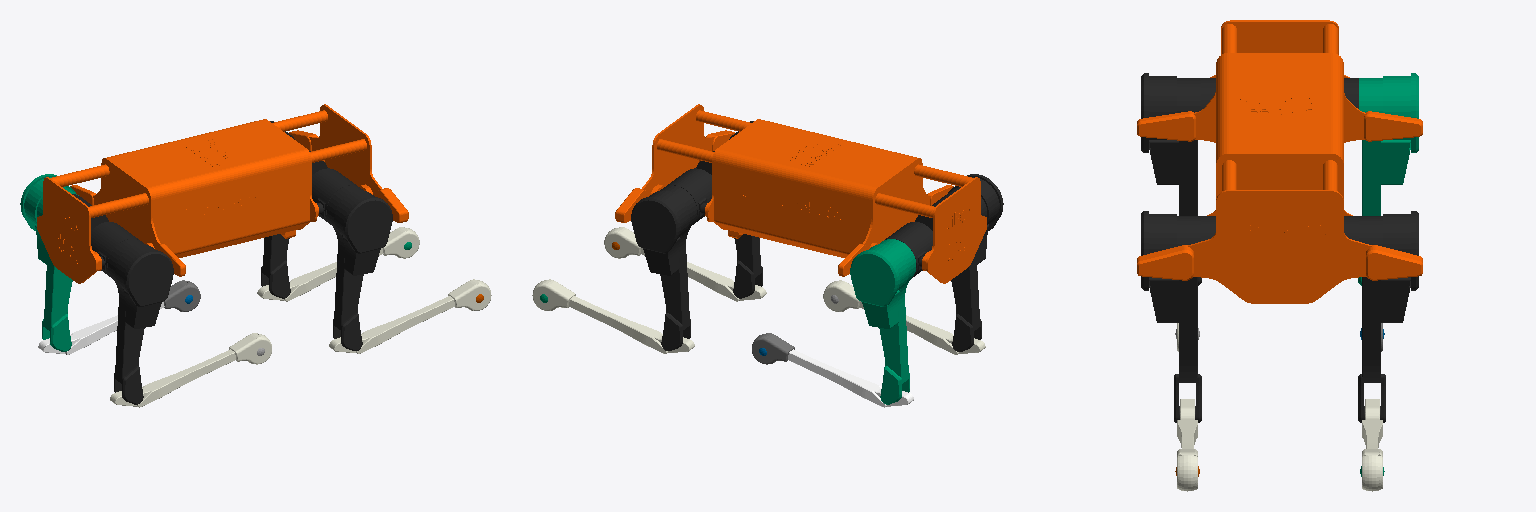
URDF robot description (laikago_description):
<?xml version="1.0" ?>
<!-- =================================================================================== -->
<!-- |    This document was autogenerated by xacro from robot.xacro                    | -->
<!-- |    EDITING THIS FILE BY HAND IS NOT RECOMMENDED                                 | -->
<!-- =================================================================================== -->
<robot name="laikago_description" xmlns:xacro="http://www.ros.org/wiki/xacro">
  <material name="black">
    <color rgba="0.0 0.0 0.0 1.0"/>
  </material>
  <material name="blue">
    <color rgba="0.0 0.0 0.8 1.0"/>
  </material>
  <material name="green">
    <color rgba="0.0 0.8 0.0 1.0"/>
  </material>
  <material name="grey">
    <color rgba="0.2 0.2 0.2 1.0"/>
  </material>
  <material name="silver">
    <color rgba="0.913725490196 0.913725490196 0.847058823529 1.0"/>
  </material>
  <material name="orange">
    <color rgba="1.0 0.423529411765 0.0392156862745 1.0"/>
  </material>
  <material name="brown">
    <color rgba="0.870588235294 0.811764705882 0.764705882353 1.0"/>
  </material>
  <material name="red">
    <color rgba="0.8 0.0 0.0 1.0"/>
  </material>
  <material name="white">
    <color rgba="1.0 1.0 1.0 1.0"/>
  </material>

  <link name="trunk">
    <visual>
      <origin rpy="0 0 0" xyz="0 0 0"/>
      <geometry>
        <mesh filename="../meshes/trunk.dae" scale="1 1 1"/>
      </geometry>
      <material name="orange"/>
    </visual>
    <collision>
      <origin rpy="0 0 0" xyz="0 0 0.01675"/>
      <geometry>
        <box size="0.5616 0.172 0.1875"/>
      </geometry>
    </collision>
    <inertial>
      <origin rpy="0 0 0" xyz="0.002284 -4.1e-05 0.025165"/>
      <mass value="13.733"/>
      <inertia ixx="0.073348887" ixy="0.00030338" ixz="0.001918218" iyy="0.250684593" iyz="-7.5402e-05" izz="0.254469458"/>
    </inertial>
  </link>
  <joint name="FR_hip_joint" type="revolute">
    <origin rpy="0 0 0" xyz="0.21935 -0.0875 0"/>
    <parent link="trunk"/>
    <child link="FR_hip"/>
    <axis xyz="1 0 0"/>
    <dynamics damping="0" friction="0"/>
    <limit effort="20" lower="-1.0471975512" upper="0.872664625997" velocity="52.4"/>
  </joint>
  <link name="FR_hip">
    <visual>
      <origin rpy="3.14159265359 0 0" xyz="0 0 0"/>
      <geometry>
        <mesh filename="../meshes/hip.dae" scale="1 1 1"/>
      </geometry>
      <material name="grey"/>
    </visual>
    <collision>
      <origin rpy="1.57079632679 0 0" xyz="0 0.021 0"/>
      <geometry>
        <cylinder length="0.08" radius="0.041"/>
      </geometry>
    </collision>
    <inertial>
      <origin rpy="0 0 0" xyz="-0.001568 0.008134 0.000864"/>
      <mass value="1.096"/>
      <inertia ixx="0.000822113" ixy="4.982e-06" ixz="-3.672e-05" iyy="0.000983196" iyz="-2.811e-06" izz="0.000864753"/>
    </inertial>
  </link>
  <joint name="FR_hip_fixed" type="fixed">
    <origin rpy="0 0 0" xyz="0 -0.059 0"/>
    <parent link="FR_hip"/>
    <child link="FR_thigh_shoulder"/>
  </joint>
  <!-- this link is only for collision -->
  <link name="FR_thigh_shoulder">
    <collision>
      <origin rpy="1.57079632679 0 0" xyz="0 0 0"/>
      <geometry>
        <cylinder length="0.08" radius="0.044"/>
      </geometry>
    </collision>
  </link>
  <joint name="FR_thigh_joint" type="revolute">
    <origin rpy="0 0 0" xyz="0 -0.037 0"/>
    <parent link="FR_hip"/>
    <child link="FR_thigh"/>
    <axis xyz="0 1 0"/>
    <dynamics damping="0" friction="0"/>
    <limit effort="55" lower="-0.523598775598" upper="3.92699081699" velocity="28.6"/>
  </joint>
  <link name="FR_thigh">
    <visual>
      <origin rpy="0 0 0" xyz="0 0 0"/>
      <geometry>
        <mesh filename="../meshes/thigh_mirror.dae" scale="1 1 1"/>
      </geometry>
      <material name="grey"/>
    </visual>
    <collision>
      <origin rpy="0 1.57079632679 0" xyz="0 0 -0.125"/>
      <geometry>
        <box size="0.25 0.034 0.043"/>
      </geometry>
    </collision>
    <inertial>
      <origin rpy="0 0 0" xyz="-0.000482 -0.02001 -0.031996"/>
      <mass value="1.528"/>
      <inertia ixx="0.00991611" ixy="-1.0388e-05" ixz="0.000250428" iyy="0.009280083" iyz="8.511e-05" izz="0.00178256"/>
    </inertial>
  </link>
  <joint name="FR_calf_joint" type="revolute">
    <origin rpy="0 0 0" xyz="0 0 -0.25"/>
    <parent link="FR_thigh"/>
    <child link="FR_calf"/>
    <axis xyz="0 1 0"/>
    <dynamics damping="0" friction="0"/>
    <limit effort="55" lower="-2.77507351067" upper="-0.610865238198" velocity="28.6"/>
  </joint>
  <link name="FR_calf">
    <visual>
      <origin rpy="0 0 0" xyz="0 0 0"/>
      <geometry>
        <mesh filename="../meshes/calf.dae" scale="1 1 1"/>
      </geometry>
      <material name="silver"/>
    </visual>
    <collision>
      <origin rpy="0 1.57079632679 0" xyz="0 0 -0.125"/>
      <geometry>
        <box size="0.25 0.016 0.016"/>
      </geometry>
    </collision>
    <inertial>
      <origin rpy="0 0 0" xyz="-0.002196 -0.000381 -0.12338"/>
      <mass value="0.241"/>
      <inertia ixx="0.006181961" ixy="2.37e-07" ixz="-2.985e-06" iyy="0.006196546" iyz="5.138e-06" izz="3.4774e-05"/>
    </inertial>
  </link>
  <joint name="FR_foot_fixed" type="fixed">
    <origin rpy="0 0 0" xyz="0 0 -0.25"/>
    <parent link="FR_calf"/>
    <child link="FR_foot"/>
  </joint>
  <link name="FR_foot">
    <visual>
      <origin rpy="0 0 0" xyz="0 0 0"/>
      <geometry>
        <sphere radius="0.0165"/>
      </geometry>
    </visual>
    <collision>
      <origin rpy="0 0 0" xyz="0 0 0"/>
      <geometry>
        <sphere radius="0.0265"/>
      </geometry>
    </collision>
    <inertial>
      <mass value="0.06"/>
      <inertia ixx="1.6854e-05" ixy="0.0" ixz="0.0" iyy="1.6854e-05" iyz="0.0" izz="1.6854e-05"/>
    </inertial>
  </link>

  <joint name="FL_hip_joint" type="revolute">
    <origin rpy="0 0 0" xyz="0.21935 0.0875 0"/>
    <parent link="trunk"/>
    <child link="FL_hip"/>
    <axis xyz="1 0 0"/>
    <dynamics damping="0" friction="0"/>
    <limit effort="20" lower="-0.872664625997" upper="1.0471975512" velocity="52.4"/>
  </joint>
  <link name="FL_hip">
    <visual>
      <origin rpy="0 0 0" xyz="0 0 0"/>
      <geometry>
        <mesh filename="../meshes/hip.dae" scale="1 1 1"/>
      </geometry>
      <material name="grey"/>
    </visual>
    <collision>
      <origin rpy="1.57079632679 0 0" xyz="0 -0.021 0"/>
      <geometry>
        <cylinder length="0.08" radius="0.041"/>
      </geometry>
    </collision>
    <inertial>
      <origin rpy="0 0 0" xyz="-0.001568 -0.008134 0.000864"/>
      <mass value="1.096"/>
      <inertia ixx="0.000822113" ixy="-4.982e-06" ixz="-3.672e-05" iyy="0.000983196" iyz="2.811e-06" izz="0.000864753"/>
    </inertial>
  </link>
  <joint name="FL_hip_fixed" type="fixed">
    <origin rpy="0 0 0" xyz="0 0.059 0"/>
    <parent link="FL_hip"/>
    <child link="FL_thigh_shoulder"/>
  </joint>
  <!-- this link is only for collision -->
  <link name="FL_thigh_shoulder">
    <collision>
      <origin rpy="1.57079632679 0 0" xyz="0 0 0"/>
      <geometry>
        <cylinder length="0.08" radius="0.044"/>
      </geometry>
    </collision>
  </link>
  <joint name="FL_thigh_joint" type="revolute">
    <origin rpy="0 0 0" xyz="0 0.037 0"/>
    <parent link="FL_hip"/>
    <child link="FL_thigh"/>
    <axis xyz="0 1 0"/>
    <dynamics damping="0" friction="0"/>
    <limit effort="55" lower="-0.523598775598" upper="3.92699081699" velocity="28.6"/>
  </joint>
  <link name="FL_thigh">
    <visual>
      <origin rpy="0 0 0" xyz="0 0 0"/>
      <geometry>
        <mesh filename="../meshes/thigh.dae" scale="1 1 1"/>
      </geometry>
      <material name="grey"/>
    </visual>
    <collision>
      <origin rpy="0 1.57079632679 0" xyz="0 0 -0.125"/>
      <geometry>
        <box size="0.25 0.034 0.043"/>
      </geometry>
    </collision>
    <inertial>
      <origin rpy="0 0 0" xyz="-0.000482 0.02001 -0.031996"/>
      <mass value="1.528"/>
      <inertia ixx="0.00991611" ixy="1.0388e-05" ixz="0.000250428" iyy="0.009280083" iyz="-8.511e-05" izz="0.00178256"/>
    </inertial>
  </link>
  <joint name="FL_calf_joint" type="revolute">
    <origin rpy="0 0 0" xyz="0 0 -0.25"/>
    <parent link="FL_thigh"/>
    <child link="FL_calf"/>
    <axis xyz="0 1 0"/>
    <dynamics damping="0" friction="0"/>
    <limit effort="55" lower="-2.77507351067" upper="-0.610865238198" velocity="28.6"/>
  </joint>
  <link name="FL_calf">
    <visual>
      <origin rpy="0 0 0" xyz="0 0 0"/>
      <geometry>
        <mesh filename="../meshes/calf.dae" scale="1 1 1"/>
      </geometry>
      <material name="silver"/>
    </visual>
    <collision>
      <origin rpy="0 1.57079632679 0" xyz="0 0 -0.125"/>
      <geometry>
        <box size="0.25 0.016 0.016"/>
      </geometry>
    </collision>
    <inertial>
      <origin rpy="0 0 0" xyz="-0.002196 -0.000381 -0.12338"/>
      <mass value="0.241"/>
      <inertia ixx="0.006181961" ixy="2.37e-07" ixz="-2.985e-06" iyy="0.006196546" iyz="5.138e-06" izz="3.4774e-05"/>
    </inertial>
  </link>
  <joint name="FL_foot_fixed" type="fixed">
    <origin rpy="0 0 0" xyz="0 0 -0.25"/>
    <parent link="FL_calf"/>
    <child link="FL_foot"/>
  </joint>
  <link name="FL_foot">
    <visual>
      <origin rpy="0 0 0" xyz="0 0 0"/>
      <geometry>
        <sphere radius="0.0165"/>
      </geometry>
    </visual>
    <collision>
      <origin rpy="0 0 0" xyz="0 0 0"/>
      <geometry>
        <sphere radius="0.0265"/>
      </geometry>
    </collision>
    <inertial>
      <mass value="0.06"/>
      <inertia ixx="1.6854e-05" ixy="0.0" ixz="0.0" iyy="1.6854e-05" iyz="0.0" izz="1.6854e-05"/>
    </inertial>
  </link>
  
  <joint name="RR_hip_joint" type="revolute">
    <origin rpy="0 0 0" xyz="-0.21935 -0.0875 0"/>
    <parent link="trunk"/>
    <child link="RR_hip"/>
    <axis xyz="1 0 0"/>
    <dynamics damping="0" friction="0"/>
    <limit effort="20" lower="-1.0471975512" upper="0.872664625997" velocity="52.4"/>
  </joint>
  <link name="RR_hip">
    <visual>
      <origin rpy="3.14159265359 3.14159265359 0" xyz="0 0 0"/>
      <geometry>
        <mesh filename="../meshes/hip.dae" scale="1 1 1"/>
      </geometry>
      <material name="grey"/>
    </visual>
    <collision>
      <origin rpy="1.57079632679 0 0" xyz="0 0.021 0"/>
      <geometry>
        <cylinder length="0.08" radius="0.041"/>
      </geometry>
    </collision>
    <inertial>
      <origin rpy="0 0 0" xyz="0.001568 0.008134 0.000864"/>
      <mass value="1.096"/>
      <inertia ixx="0.000822113" ixy="-4.982e-06" ixz="3.672e-05" iyy="0.000983196" iyz="-2.811e-06" izz="0.000864753"/>
    </inertial>
  </link>
  <joint name="RR_hip_fixed" type="fixed">
    <origin rpy="0 0 0" xyz="0 -0.059 0"/>
    <parent link="RR_hip"/>
    <child link="RR_thigh_shoulder"/>
  </joint>
  <!-- this link is only for collision -->
  <link name="RR_thigh_shoulder">
    <collision>
      <origin rpy="1.57079632679 0 0" xyz="0 0 0"/>
      <geometry>
        <cylinder length="0.08" radius="0.044"/>
      </geometry>
    </collision>
  </link>
  <joint name="RR_thigh_joint" type="revolute">
    <origin rpy="0 0 0" xyz="0 -0.037 0"/>
    <parent link="RR_hip"/>
    <child link="RR_thigh"/>
    <axis xyz="0 1 0"/>
    <dynamics damping="0" friction="0"/>
    <limit effort="55" lower="-0.523598775598" upper="3.92699081699" velocity="28.6"/>
  </joint>
  <link name="RR_thigh">
    <visual>
      <origin rpy="0 0 0" xyz="0 0 0"/>
      <geometry>
        <mesh filename="../meshes/thigh_mirror.dae" scale="1 1 1"/>
      </geometry>
      <material name="grey"/>
    </visual>
    <collision>
      <origin rpy="0 1.57079632679 0" xyz="0 0 -0.125"/>
      <geometry>
        <box size="0.25 0.034 0.043"/>
      </geometry>
    </collision>
    <inertial>
      <origin rpy="0 0 0" xyz="-0.000482 -0.02001 -0.031996"/>
      <mass value="1.528"/>
      <inertia ixx="0.00991611" ixy="-1.0388e-05" ixz="0.000250428" iyy="0.009280083" iyz="8.511e-05" izz="0.00178256"/>
    </inertial>
  </link>
  <joint name="RR_calf_joint" type="revolute">
    <origin rpy="0 0 0" xyz="0 0 -0.25"/>
    <parent link="RR_thigh"/>
    <child link="RR_calf"/>
    <axis xyz="0 1 0"/>
    <dynamics damping="0" friction="0"/>
    <limit effort="55" lower="-2.77507351067" upper="-0.610865238198" velocity="28.6"/>
  </joint>
  <link name="RR_calf">
    <visual>
      <origin rpy="0 0 0" xyz="0 0 0"/>
      <geometry>
        <mesh filename="../meshes/calf.dae" scale="1 1 1"/>
      </geometry>
      <material name="silver"/>
    </visual>
    <collision>
      <origin rpy="0 1.57079632679 0" xyz="0 0 -0.125"/>
      <geometry>
        <box size="0.25 0.016 0.016"/>
      </geometry>
    </collision>
    <inertial>
      <origin rpy="0 0 0" xyz="-0.002196 -0.000381 -0.12338"/>
      <mass value="0.241"/>
      <inertia ixx="0.006181961" ixy="2.37e-07" ixz="-2.985e-06" iyy="0.006196546" iyz="5.138e-06" izz="3.4774e-05"/>
    </inertial>
  </link>
  <joint name="RR_foot_fixed" type="fixed">
    <origin rpy="0 0 0" xyz="0 0 -0.25"/>
    <parent link="RR_calf"/>
    <child link="RR_foot"/>
  </joint>
  <link name="RR_foot">
    <visual>
      <origin rpy="0 0 0" xyz="0 0 0"/>
      <geometry>
        <sphere radius="0.0165"/>
      </geometry>
    </visual>
    <collision>
      <origin rpy="0 0 0" xyz="0 0 0"/>
      <geometry>
        <sphere radius="0.0265"/>
      </geometry>
    </collision>
    <inertial>
      <mass value="0.06"/>
      <inertia ixx="1.6854e-05" ixy="0.0" ixz="0.0" iyy="1.6854e-05" iyz="0.0" izz="1.6854e-05"/>
    </inertial>
  </link>
  
  <joint name="RL_hip_joint" type="revolute">
    <origin rpy="0 0 0" xyz="-0.21935 0.0875 0"/>
    <parent link="trunk"/>
    <child link="RL_hip"/>
    <axis xyz="1 0 0"/>
    <dynamics damping="0" friction="0"/>
    <limit effort="20" lower="-0.872664625997" upper="1.0471975512" velocity="52.4"/>
  </joint>
  <link name="RL_hip">
    <visual>
      <origin rpy="0 3.14159265359 0" xyz="0 0 0"/>
      <geometry>
        <mesh filename="../meshes/hip.dae" scale="1 1 1"/>
      </geometry>
      <material name="grey"/>
    </visual>
    <collision>
      <origin rpy="1.57079632679 0 0" xyz="0 -0.021 0"/>
      <geometry>
        <cylinder length="0.08" radius="0.041"/>
      </geometry>
    </collision>
    <inertial>
      <origin rpy="0 0 0" xyz="0.001568 -0.008134 0.000864"/>
      <mass value="1.096"/>
      <inertia ixx="0.000822113" ixy="4.982e-06" ixz="3.672e-05" iyy="0.000983196" iyz="2.811e-06" izz="0.000864753"/>
    </inertial>
  </link>
  <joint name="RL_hip_fixed" type="fixed">
    <origin rpy="0 0 0" xyz="0 0.059 0"/>
    <parent link="RL_hip"/>
    <child link="RL_thigh_shoulder"/>
  </joint>
  <!-- this link is only for collision -->
  <link name="RL_thigh_shoulder">
    <collision>
      <origin rpy="1.57079632679 0 0" xyz="0 0 0"/>
      <geometry>
        <cylinder length="0.08" radius="0.044"/>
      </geometry>
    </collision>
  </link>
  <joint name="RL_thigh_joint" type="revolute">
    <origin rpy="0 0 0" xyz="0 0.037 0"/>
    <parent link="RL_hip"/>
    <child link="RL_thigh"/>
    <axis xyz="0 1 0"/>
    <dynamics damping="0" friction="0"/>
    <limit effort="55" lower="-0.523598775598" upper="3.92699081699" velocity="28.6"/>
  </joint>
  <link name="RL_thigh">
    <visual>
      <origin rpy="0 0 0" xyz="0 0 0"/>
      <geometry>
        <mesh filename="../meshes/thigh.dae" scale="1 1 1"/>
      </geometry>
    </visual>
    <collision>
      <origin rpy="0 1.57079632679 0" xyz="0 0 -0.125"/>
      <geometry>
        <box size="0.25 0.034 0.043"/>
      </geometry>
    </collision>
    <inertial>
      <origin rpy="0 0 0" xyz="-0.000482 0.02001 -0.031996"/>
      <mass value="1.528"/>
      <inertia ixx="0.00991611" ixy="1.0388e-05" ixz="0.000250428" iyy="0.009280083" iyz="-8.511e-05" izz="0.00178256"/>
    </inertial>
  </link>
  <joint name="RL_calf_joint" type="revolute">
    <origin rpy="0 0 0" xyz="0 0 -0.25"/>
    <parent link="RL_thigh"/>
    <child link="RL_calf"/>
    <axis xyz="0 1 0"/>
    <dynamics damping="0" friction="0"/>
    <limit effort="55" lower="-2.77507351067" upper="-0.610865238198" velocity="28.6"/>
  </joint>
  <link name="RL_calf">
    <visual>
      <origin rpy="0 0 0" xyz="0 0 0"/>
      <geometry>
        <mesh filename="../meshes/calf.dae" scale="1 1 1"/>
      </geometry>
    </visual>
    <collision>
      <origin rpy="0 1.57079632679 0" xyz="0 0 -0.125"/>
      <geometry>
        <box size="0.25 0.016 0.016"/>
      </geometry>
    </collision>
    <inertial>
      <origin rpy="0 0 0" xyz="-0.002196 -0.000381 -0.12338"/>
      <mass value="0.241"/>
      <inertia ixx="0.006181961" ixy="2.37e-07" ixz="-2.985e-06" iyy="0.006196546" iyz="5.138e-06" izz="3.4774e-05"/>
    </inertial>
  </link>
  <joint name="RL_foot_fixed" type="fixed">
    <origin rpy="0 0 0" xyz="0 0 -0.25"/>
    <parent link="RL_calf"/>
    <child link="RL_foot"/>
  </joint>
  <link name="RL_foot">
    <visual>
      <origin rpy="0 0 0" xyz="0 0 0"/>
      <geometry>
        <sphere radius="0.0165"/>
      </geometry>
    </visual>
    <collision>
      <origin rpy="0 0 0" xyz="0 0 0"/>
      <geometry>
        <sphere radius="0.0265"/>
      </geometry>
    </collision>
    <inertial>
      <mass value="0.06"/>
      <inertia ixx="1.6854e-05" ixy="0.0" ixz="0.0" iyy="1.6854e-05" iyz="0.0" izz="1.6854e-05"/>
    </inertial>
  </link>
</robot>

--- What the picture shows (computed from the rendered views, not written in the file) ---
3 views of the same robot in one strip: view 1: azimuth 30°, elevation 25°; view 2: azimuth 150°, elevation 25°; view 3: azimuth 270°, elevation 25° (orthographic).
Model laikago_description with 21 links and 20 joints (12 revolute, 8 fixed), rooted at trunk, posed joints at zero except 4 at the middle of their limits (FR_calf_joint = -1.69, FL_calf_joint = -1.69, RR_calf_joint = -1.69, RL_calf_joint = -1.69).
Links seen in each view (by area): view 1: trunk, FR_thigh, RR_thigh, RL_thigh, FR_calf, RR_calf, FL_calf, RL_calf, FL_thigh, FR_hip, RR_hip; view 2: trunk, FL_thigh, RL_thigh, RR_thigh, FL_calf, RL_calf, FR_calf, RR_calf, FR_thigh, FL_hip, RL_hip; view 3: trunk, FR_thigh, FL_thigh, RR_thigh, RL_thigh, FR_calf, FL_calf.
Link boxes in pixels (left/top/right/bottom): trunk: left=37, top=104, right=408, bottom=283; FR_thigh: left=327, top=185, right=392, bottom=350; RR_thigh: left=108, top=239, right=173, bottom=404; RL_thigh: left=20, top=174, right=78, bottom=351; FR_calf: left=329, top=279, right=491, bottom=353; RR_calf: left=110, top=333, right=271, bottom=407; FL_calf: left=257, top=227, right=419, bottom=301; RL_calf: left=38, top=280, right=200, bottom=354; FL_thigh: left=261, top=121, right=294, bottom=298; FR_hip: left=312, top=168, right=356, bottom=224; RR_hip: left=91, top=222, right=138, bottom=277; trunk: left=615, top=104, right=986, bottom=283; FL_thigh: left=631, top=185, right=696, bottom=350; RL_thigh: left=850, top=239, right=915, bottom=404; RR_thigh: left=945, top=174, right=1003, bottom=351; FL_calf: left=532, top=279, right=694, bottom=353; RL_calf: left=752, top=333, right=913, bottom=407; FR_calf: left=604, top=227, right=766, bottom=301; RR_calf: left=823, top=280, right=985, bottom=354; FR_thigh: left=729, top=121, right=762, bottom=298; FL_hip: left=667, top=168, right=711, bottom=224; RL_hip: left=885, top=222, right=932, bottom=277; trunk: left=1137, top=20, right=1422, bottom=303; FR_thigh: left=1141, top=211, right=1201, bottom=422; FL_thigh: left=1358, top=211, right=1418, bottom=422; RR_thigh: left=1141, top=73, right=1201, bottom=285; RL_thigh: left=1358, top=73, right=1418, bottom=285; FR_calf: left=1177, top=399, right=1197, bottom=491; FL_calf: left=1362, top=399, right=1382, bottom=491.
Size in the robot's own frame: 0.7755 by 0.386 by 0.3808 metres.
13 mesh visuals loaded from 5 distinct referenced files (5 Collada DAE).
